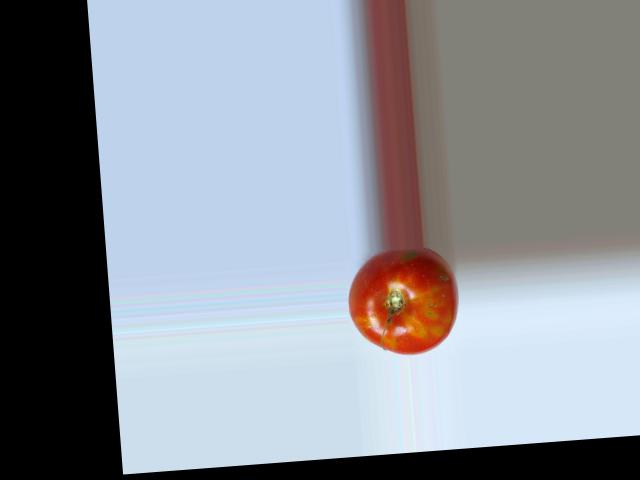tomato: (344, 244, 462, 358)
